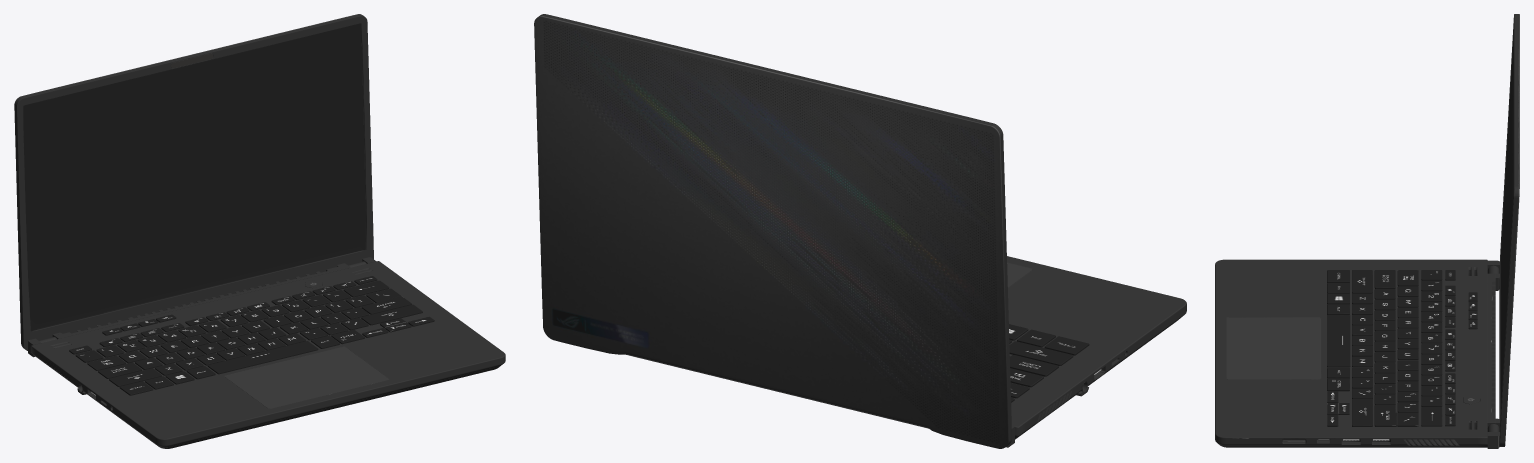
3 views of the same model, side by side, from view 1: azimuth 30°, elevation 25°; view 2: azimuth 150°, elevation 25°; view 3: azimuth 270°, elevation 25° (orthographic). The views are drawn at different scales.
Parts seen in each view (by area): view 1: ASSET; view 2: ASSET; view 3: ASSET.
Boxes of the visible parts, x1,y1,x2,y2 form: ASSET: (14,14,505,448); ASSET: (534,14,1186,448); ASSET: (1215,14,1519,448).
Size of the model in its own units: 0.32 by 0.22 by 0.23.
1 material, 1 textured.
